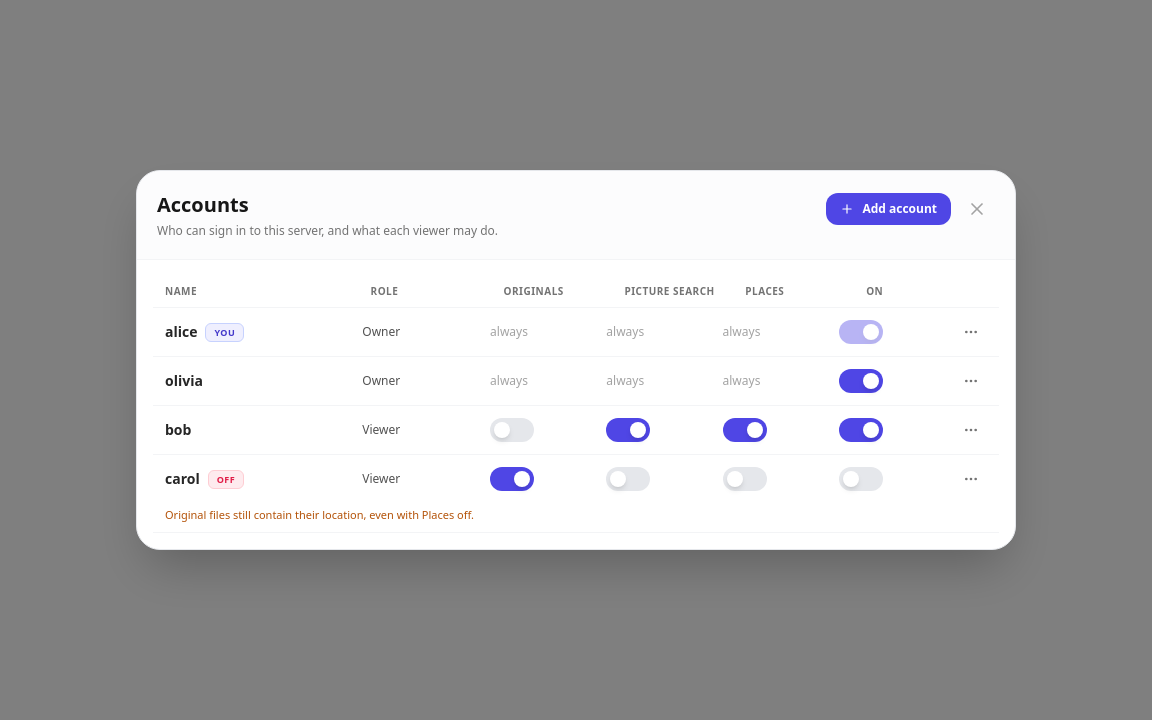
Test case: AccountsModal › inline changes of a viewer (taking access away) › shows the server detail for an unknown code
Expected: the table named "Accounts" is shown, [153,276,999,533]
Click the switch named "See places and filter by place for bob" at (744, 430), box [722,418,766,442]
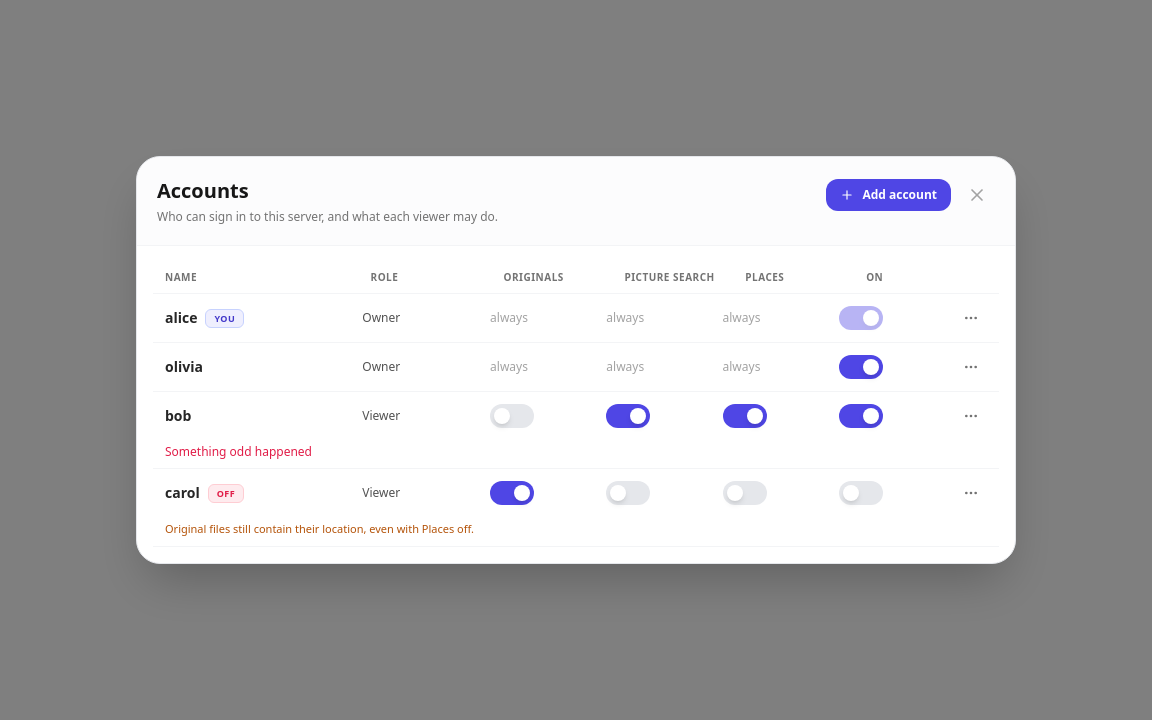
Expected: the message reads "Something odd happened", [165,443,312,460]
